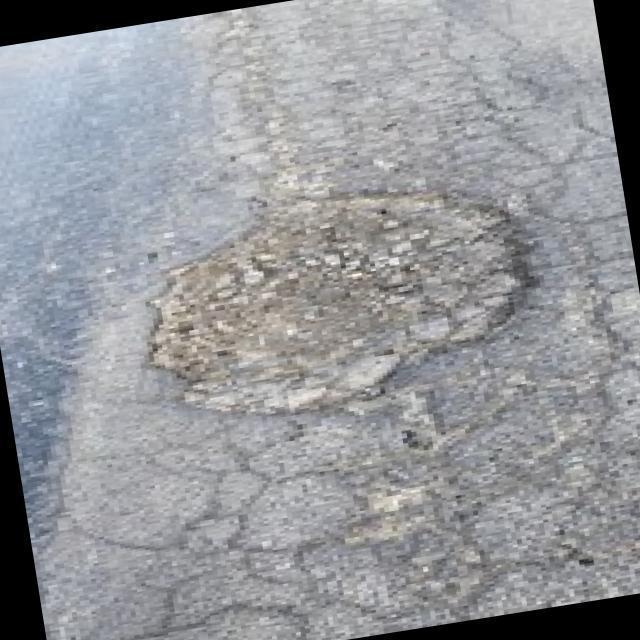pothole: (122, 158, 559, 437)
